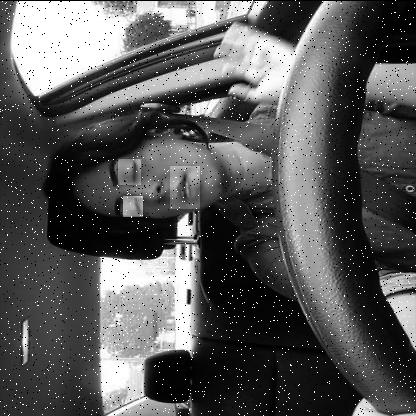seatbelt: (36, 107, 416, 240)
